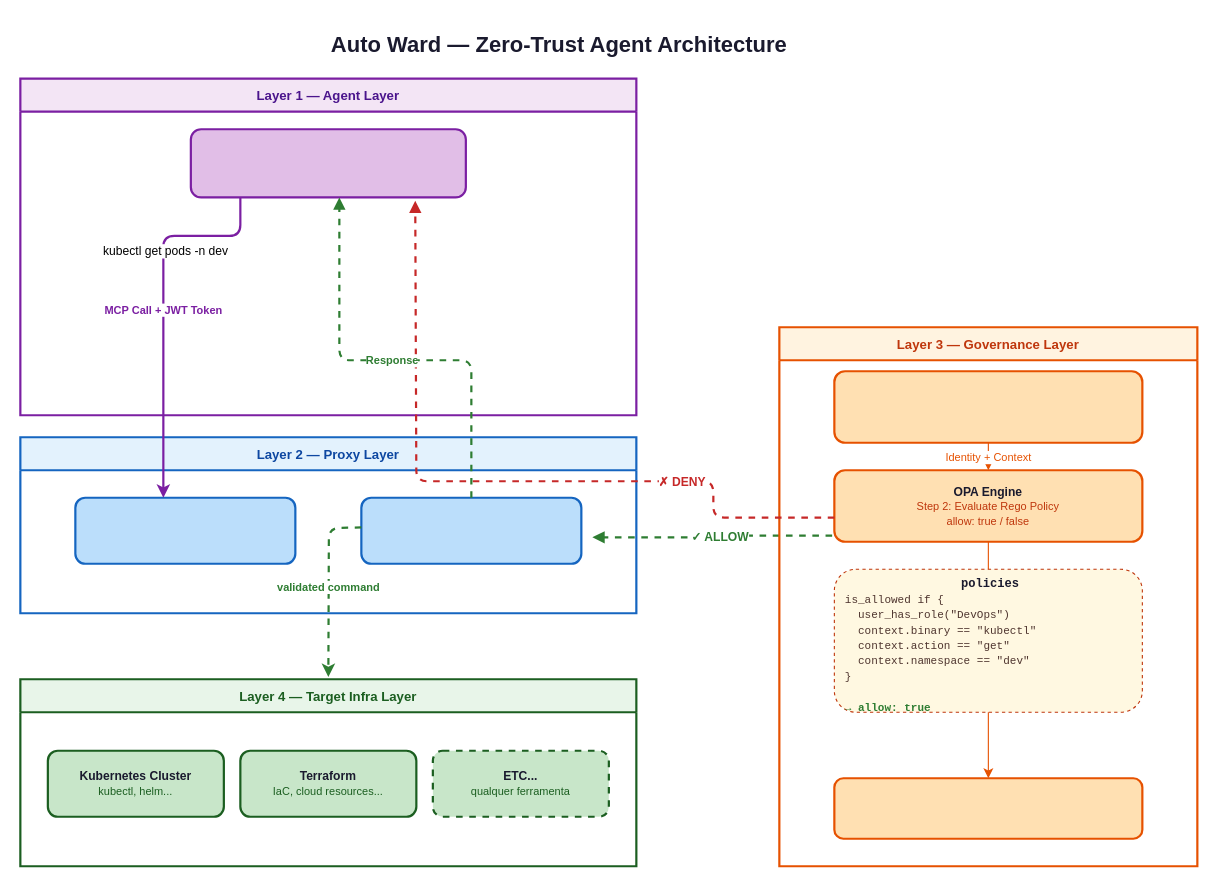
This 1217x886 diagram has some shape labels left out. The shapes that lost their labels are listed below. From the top down, each one's centre as x and y in pixels, then its label:
At [327,163]: "AI Agent (e.g., OpenClaw, LLM, n8n) Gera intenções. Sem credenciais de infra.".
At [988,406]: "Keycloak (IAM) Step 1: Validate JWT Identify Agent".
At [185,530]: "Intent Translator Recebe e parseia o comando".
At [471,530]: "Execution Engine Executa se autorizado".
At [988,808]: "Audit Log (PostgreSQL) Immutable trail: ALLOW / BLOCKED".
